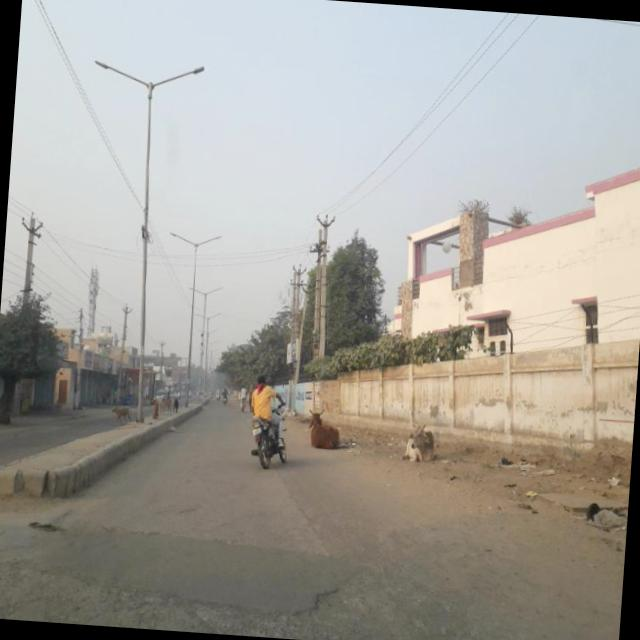pothole: (62, 556, 355, 640)
